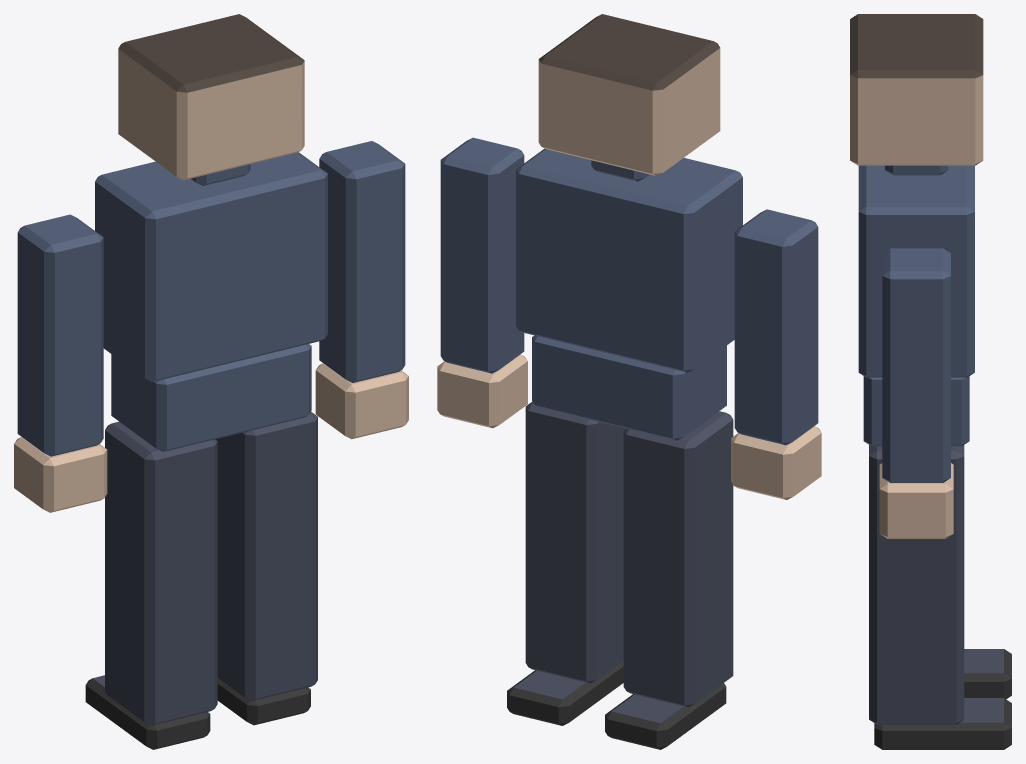
File: enemy_tank.glb
3 views of the same model, side by side, from view 1: azimuth 30°, elevation 25°; view 2: azimuth 150°, elevation 25°; view 3: azimuth 270°, elevation 25° (orthographic). The views are drawn at different scales.
Visible parts, largest first — view 1: EnemyTank; view 2: EnemyTank; view 3: EnemyTank.
Boxes of the visible parts, x1,y1,x2,y2 form: EnemyTank: [14, 14, 408, 749]; EnemyTank: [437, 14, 821, 749]; EnemyTank: [850, 14, 1011, 749].
Size of the model in its own units: 1.12 by 1.96 by 0.4284.
